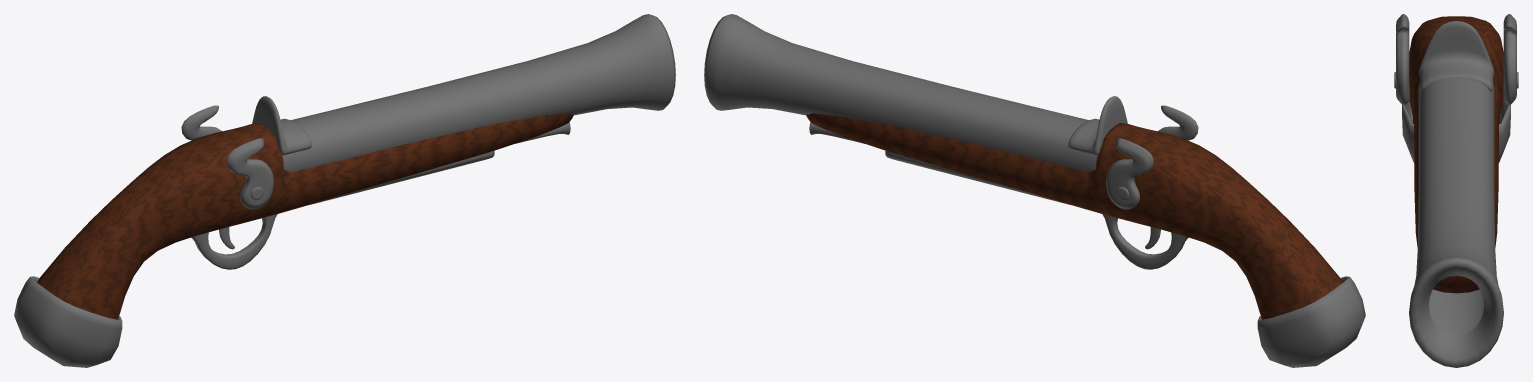
The model's file is wephon.fbx.
The picture shows the model from 3 angles, left to right: view 1: azimuth 30°, elevation 25°; view 2: azimuth 150°, elevation 25°; view 3: azimuth 270°, elevation 25°; orthographic projection. The views are drawn at different scales.
Parts seen in each view (by area): view 1: Plane.004, Plane.002; view 2: Plane.004, Plane.002; view 3: Plane.004, Plane.002.
Boxes of the visible parts, x1,y1,x2,y2 form: Plane.004: (14,14,675,367); Plane.002: (37,113,573,319); Plane.004: (704,14,1365,367); Plane.002: (806,113,1342,319); Plane.004: (1394,14,1518,367); Plane.002: (1409,16,1503,293).
Size of the model in its own units: 2373 by 777 by 342.
2 materials, 1 textured.
